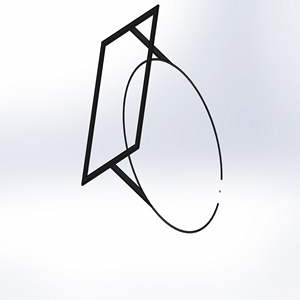circle: (79, 4, 225, 235)
